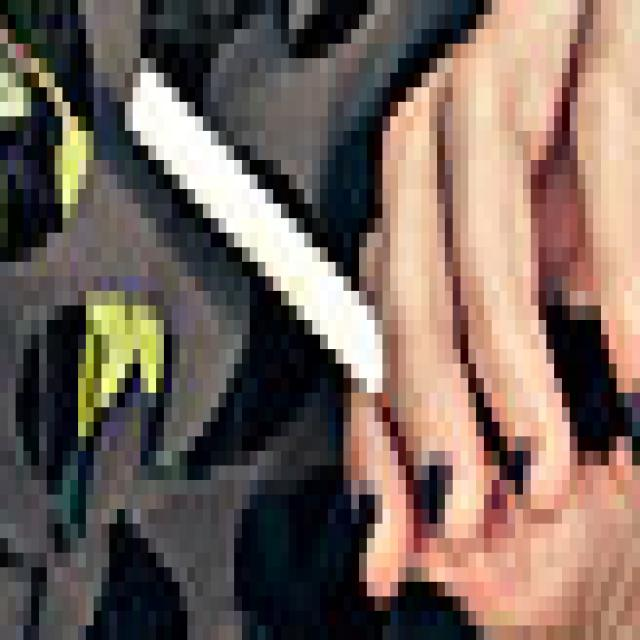smoking: (123, 57, 401, 406)
